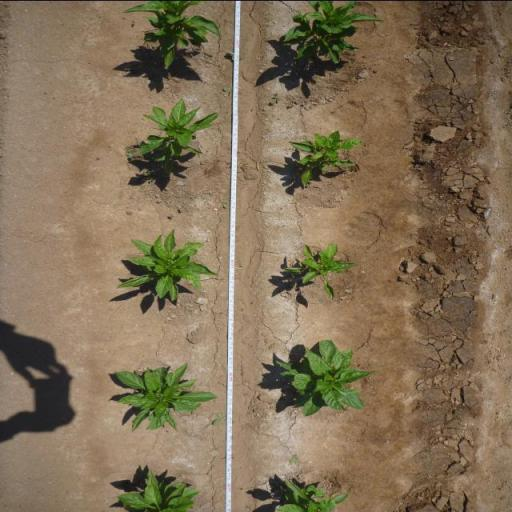plant: (110, 222, 223, 304), (273, 336, 378, 423), (106, 359, 214, 434), (116, 0, 224, 71), (280, 0, 389, 67), (139, 99, 219, 169), (285, 128, 365, 189), (278, 243, 356, 301), (112, 464, 204, 512), (270, 473, 353, 512)
weed: (210, 408, 236, 426), (144, 168, 159, 184), (225, 50, 244, 60), (268, 92, 282, 104), (122, 150, 136, 160), (288, 452, 300, 463), (221, 85, 232, 93), (178, 206, 184, 212), (222, 202, 228, 208), (166, 214, 174, 218), (133, 140, 141, 144)
